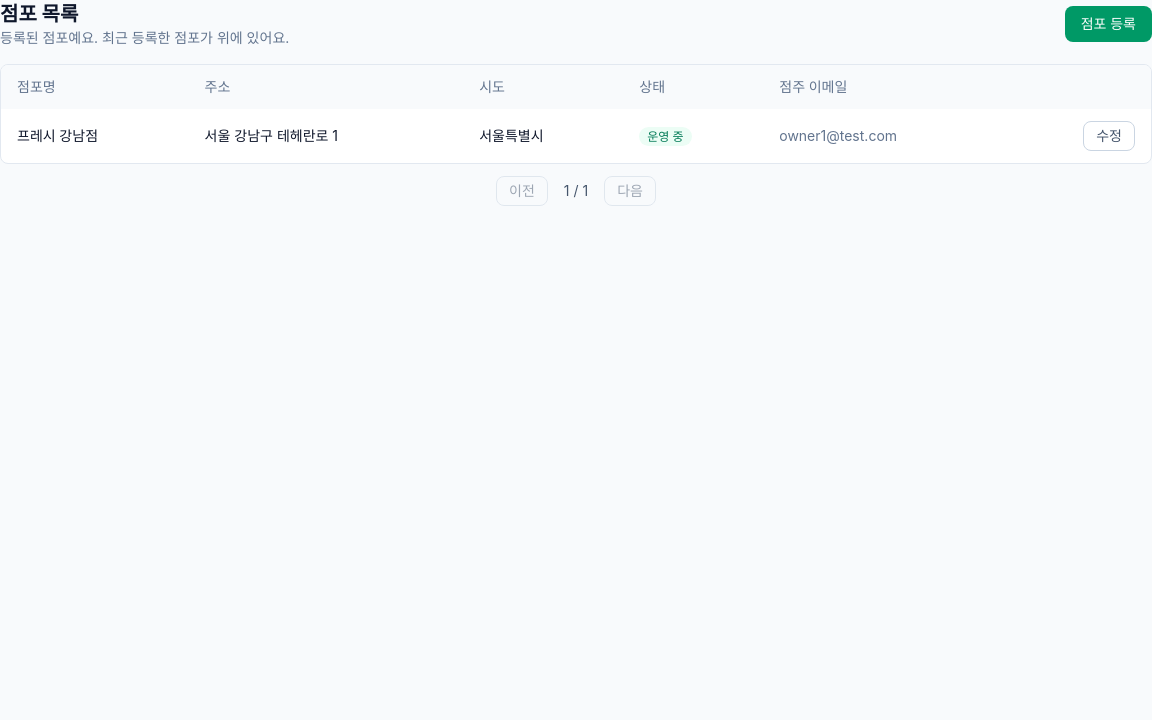
it: 관리자 점포 수정 모달 (A-02) › 점포명만 바꾸면 name 만 보내고, 200 이면 닫고 안내·목록 재조회
This screenshot has width=1152, height=720.
Click the button with aria-label "프레시 강남점 수정": {"x": 1109, "y": 136} [1083,121,1135,151]
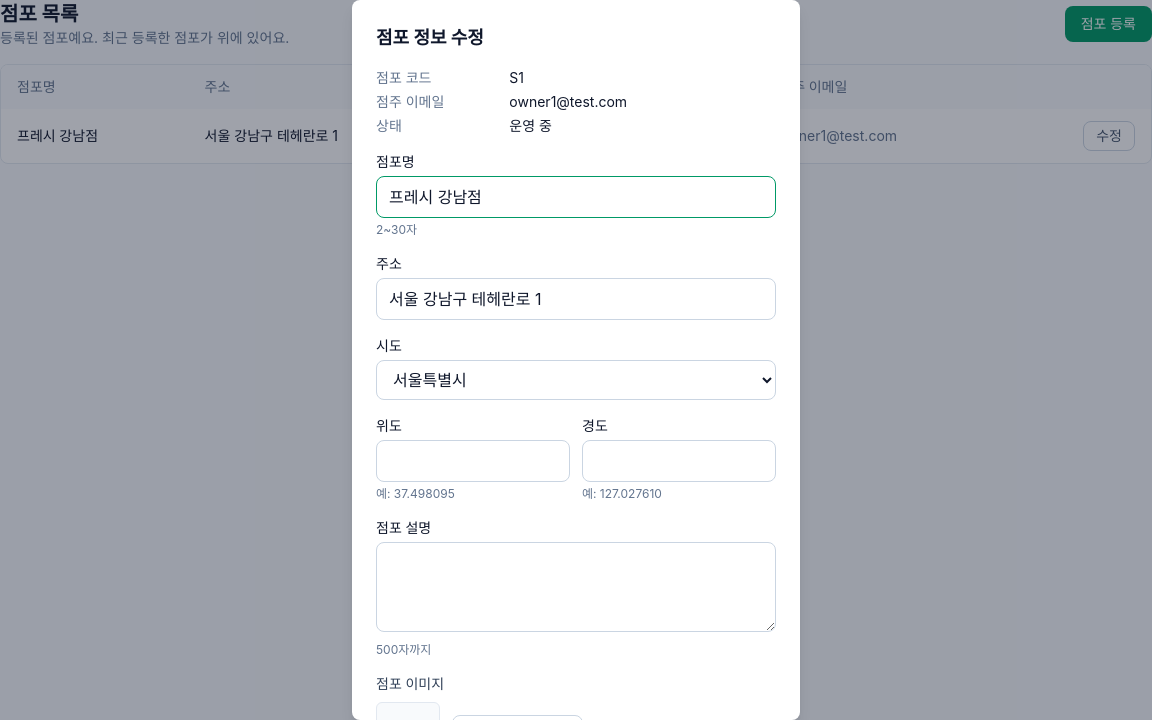
Replace the text in the field labelled "점포명" with "프레시 신사점": {"x": 576, "y": 197} [376,176,776,218]
(page scrolled)
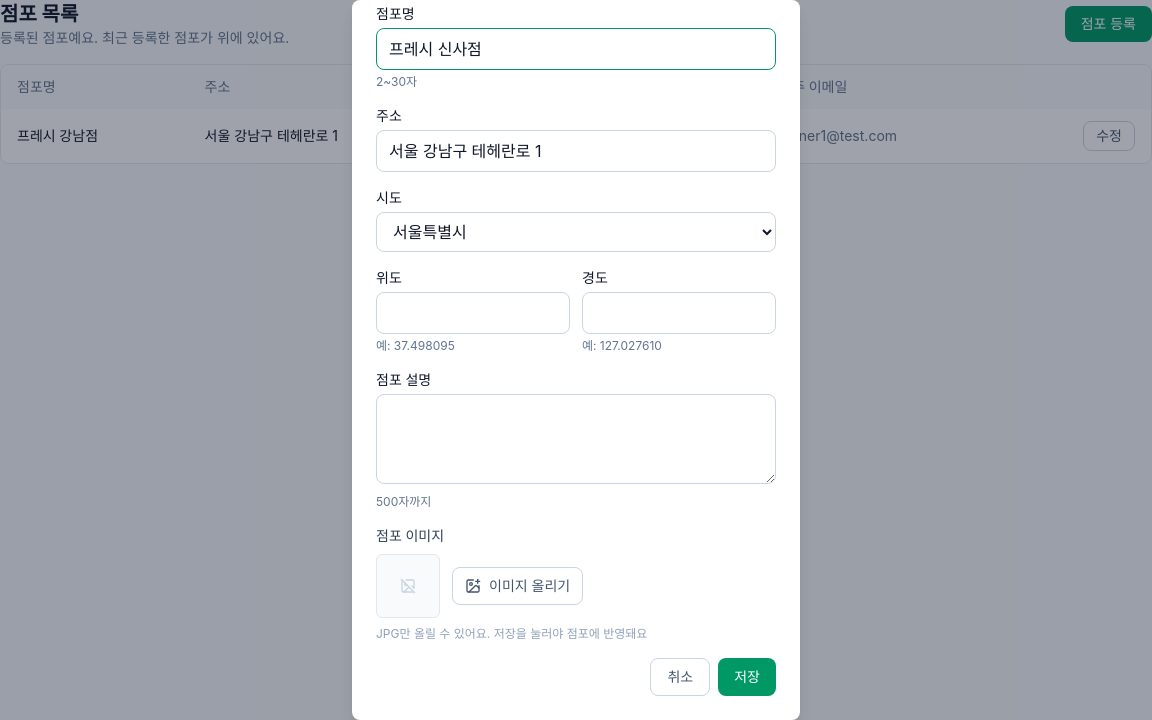
Now the button "저장" is enabled
Click the button "저장": {"x": 747, "y": 677} [718,658,776,696]
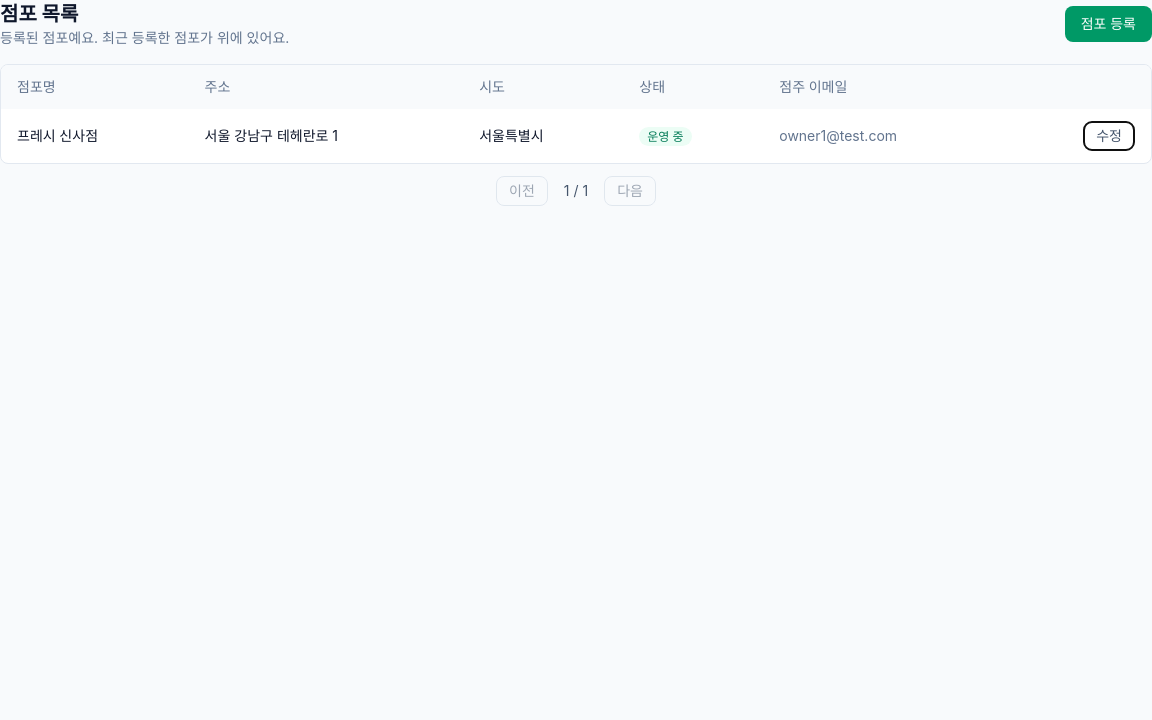
Now the dialog is gone
Now the text "프레시 신사점" is shown, box [1,109,189,163]
